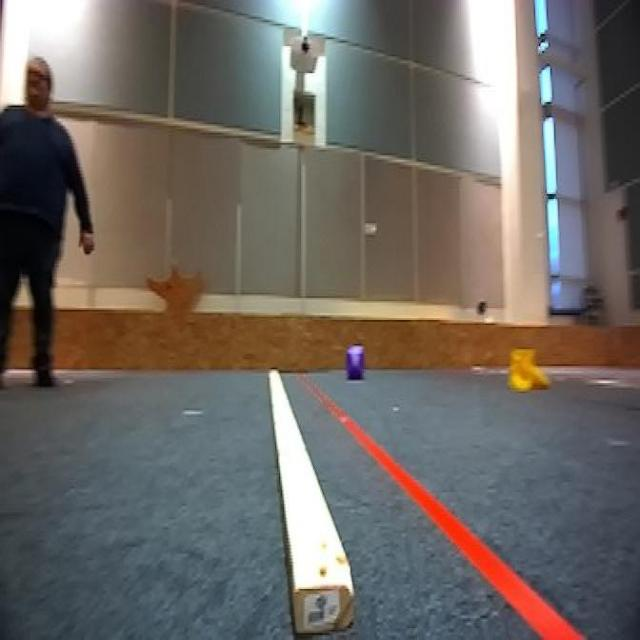frc_cone: (504, 344, 546, 395)
frc_cube: (343, 344, 368, 385)
